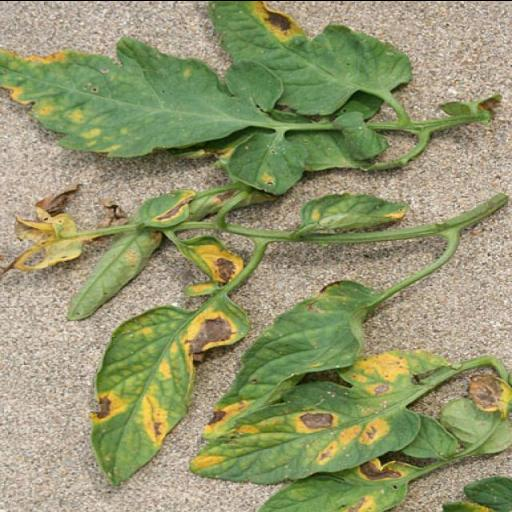disease_tomato: (88, 288, 250, 488), (186, 350, 420, 484), (202, 2, 412, 114), (250, 458, 420, 512), (175, 232, 246, 285)
